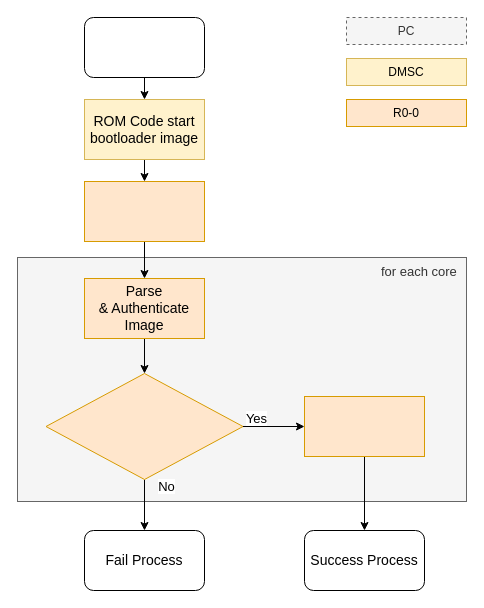
Image size: 484x608. Some labels were removed from this diagram. The centre of each missing label's shape, as x and y in pixels:
"Device Setup" goes at point 144,211.
"Device Start OSPI FLASH BOOT MODE" goes at point 144,47.
"Is Image Valid?" goes at point 144,426.
"Load Image to CPU-RAM" goes at point 364,426.
